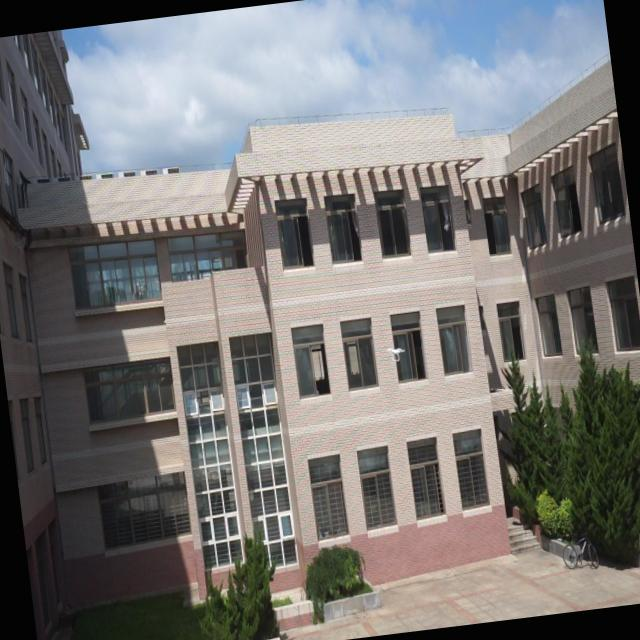drone: (385, 342, 406, 366)
